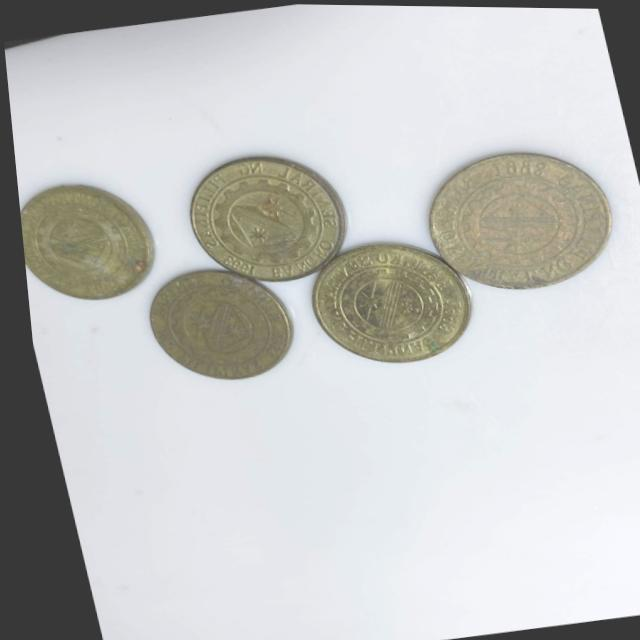25Cent_Old_Back: (417, 139, 622, 299), (294, 234, 476, 374), (178, 150, 347, 287), (132, 259, 298, 394), (14, 180, 152, 307)
